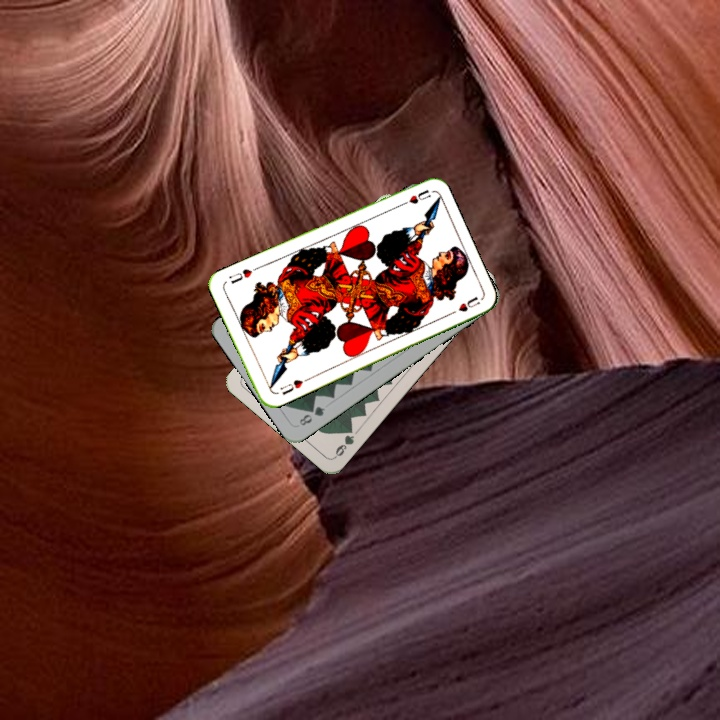G8: (295, 402, 328, 428)
G9: (330, 422, 357, 461)
HU: (395, 185, 434, 209), (276, 376, 305, 398)
